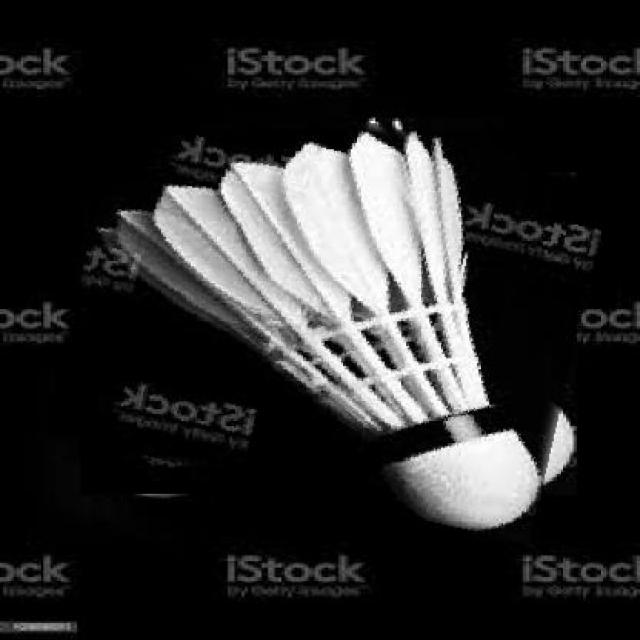Shuttlecock: (91, 130, 542, 531)
